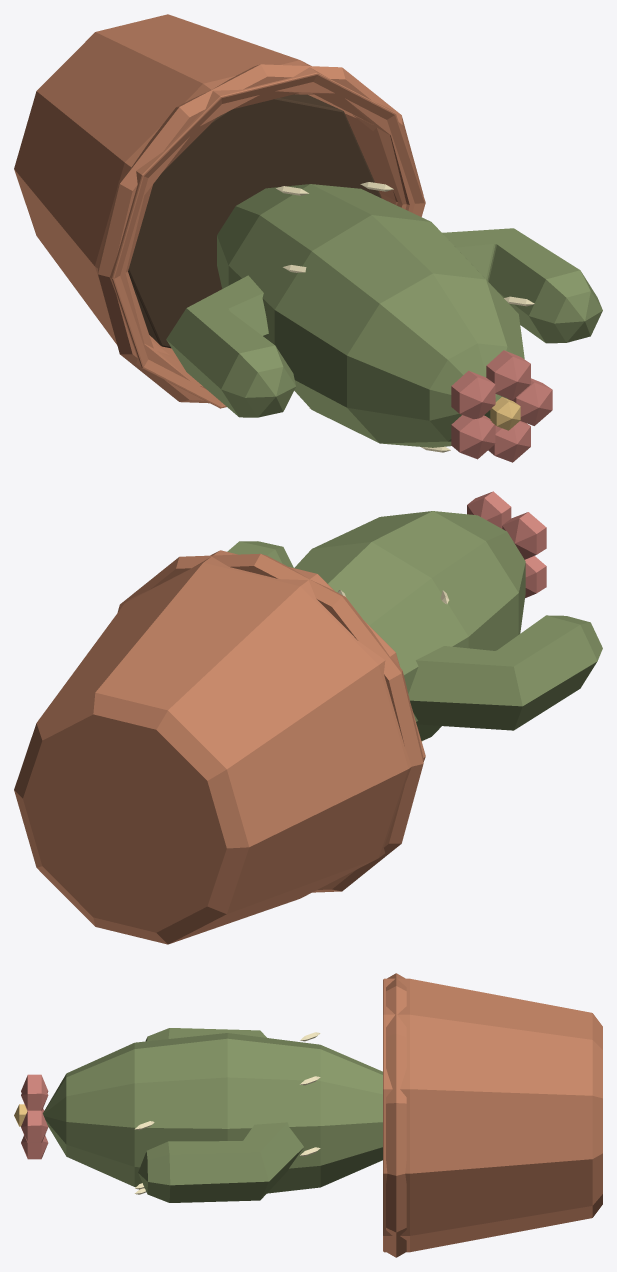
Rendered from potted_cactus.glb.
3 renders of one model, top to bottom at view 1: azimuth 30°, elevation 25°; view 2: azimuth 150°, elevation 25°; view 3: azimuth 270°, elevation 25°, orthographic. The views are drawn at different scales.
Parts seen in each view (by area): view 1: potted_cactus; view 2: potted_cactus; view 3: potted_cactus.
Part boxes in pixels (box(x1,y1,x2,y2)): potted_cactus: box(14, 14, 602, 462); potted_cactus: box(14, 491, 602, 944); potted_cactus: box(14, 973, 602, 1257).
Bounding box in the file's own units: 0.096 × 0.083 × 0.171.
